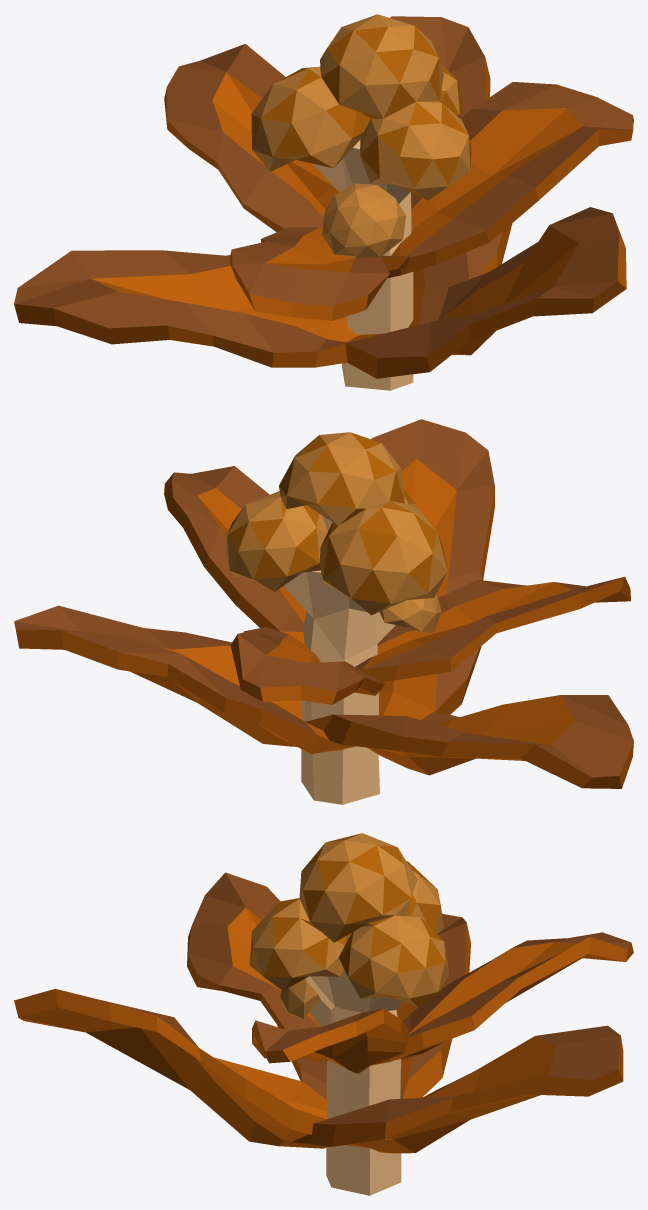
Rendered from Broccoli_L_Dead.fbx.
The picture shows the model from 3 angles, top to bottom: view 1: azimuth 30°, elevation 25°; view 2: azimuth 150°, elevation 25°; view 3: azimuth 270°, elevation 25°; orthographic projection. The views are drawn at different scales.
Visible parts, largest first — view 1: Broccoli_L_Died; view 2: Broccoli_L_Died; view 3: Broccoli_L_Died.
Boxes of the visible parts, left/top/right/bottom form: Broccoli_L_Died: left=14, top=14, right=633, bottom=390; Broccoli_L_Died: left=14, top=419, right=633, bottom=804; Broccoli_L_Died: left=14, top=833, right=633, bottom=1195.
Bounding box in the file's own units: 48.02 × 30.11 × 49.97.
